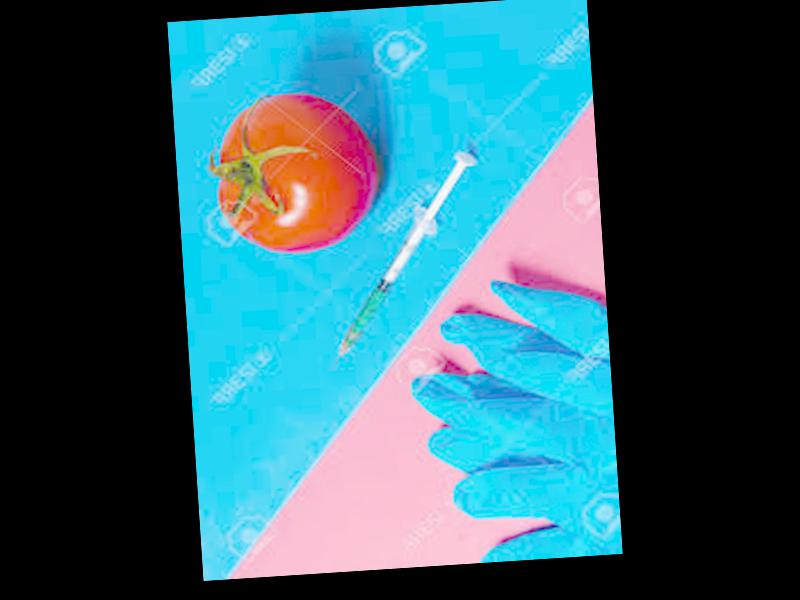Tomato: (214, 90, 384, 257)
